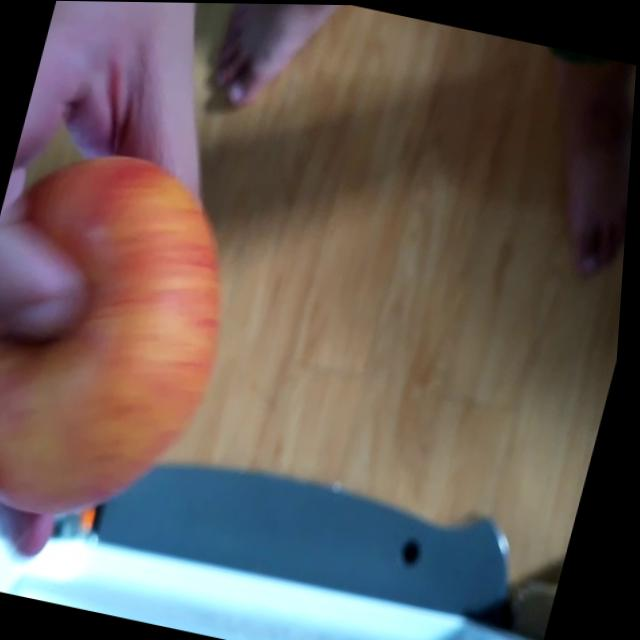apple: (0, 130, 272, 529)
